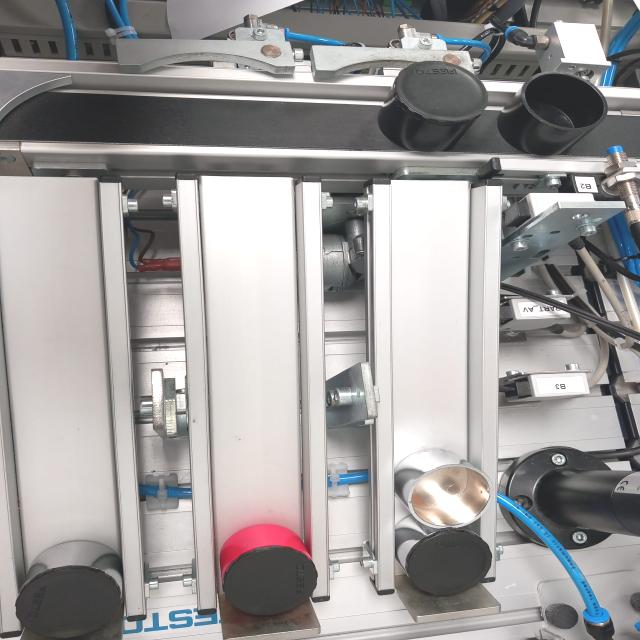NoLid: (509, 68, 611, 157), (394, 451, 498, 534)
Workpiece: (205, 520, 344, 625), (4, 535, 128, 640), (371, 58, 497, 151), (396, 536, 499, 612)
